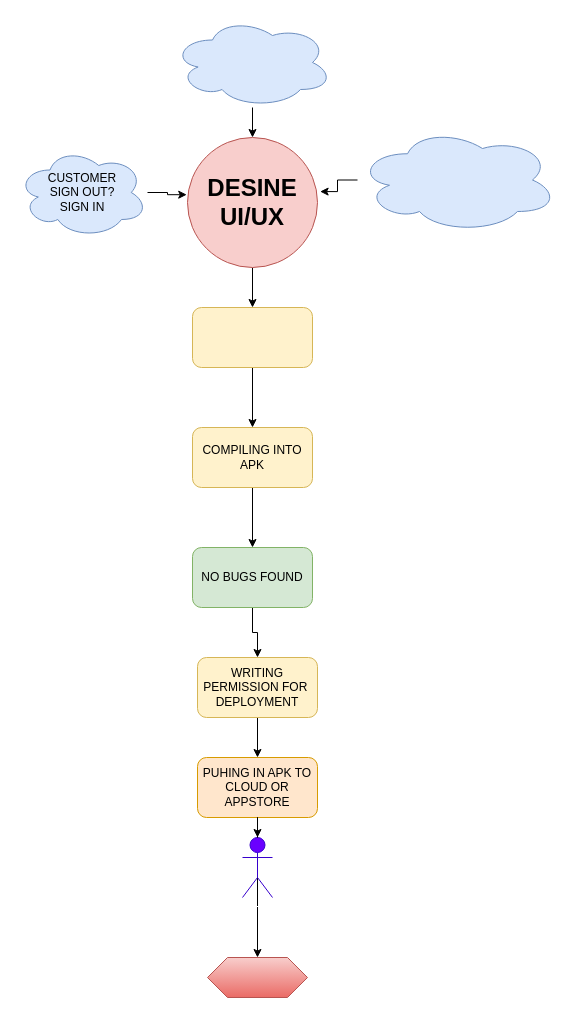
Image size: 575x1015. Some labels were removed from this diagram. The shapes that lost their labels are listed below. From the top down, each one's centre as x and y in pixels, then its label:
At pixel 252 62: "FAST DELIVERY".
At pixel 457 179: "LISTING OF RESTURENT AND QUESTION".
At pixel 252 337: "CHICK OUT PAGE&RTS".
At pixel 257 977: "NO FEEDBACK".
